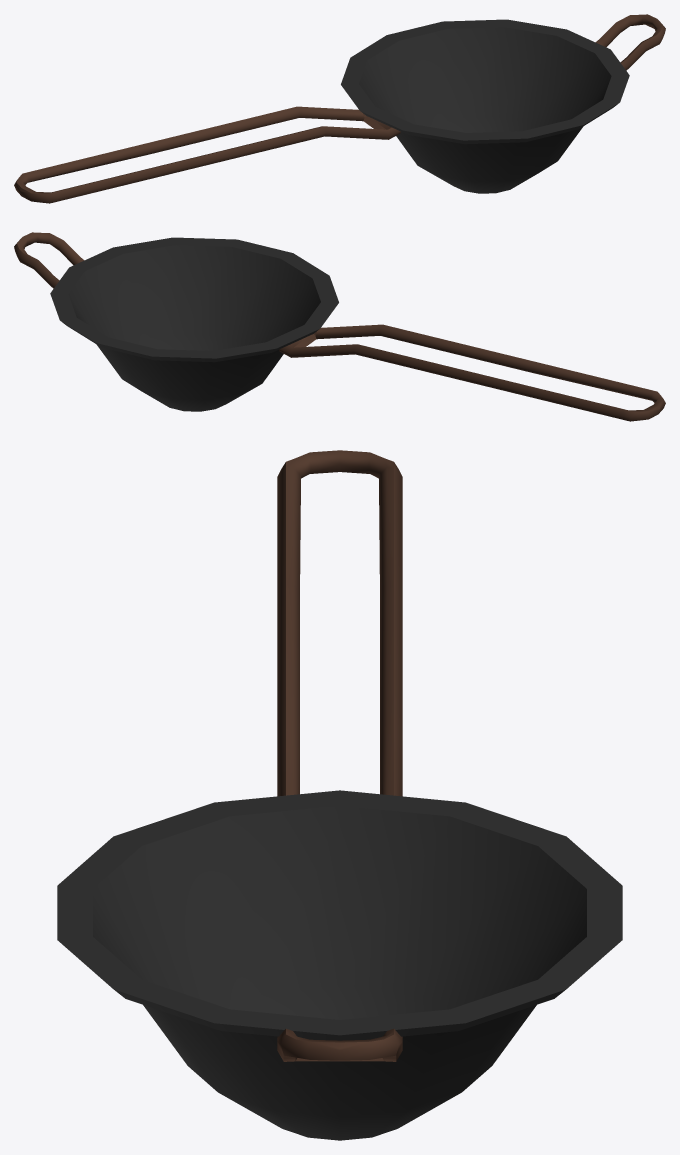
Rendered from Test_Strainer Animation.FBX.
The picture shows the model from 3 angles, top to bottom: view 1: azimuth 30°, elevation 25°; view 2: azimuth 150°, elevation 25°; view 3: azimuth 270°, elevation 25°; orthographic projection. The views are drawn at different scales.
Visible parts, largest first — view 1: Cylinder001, Box004, Box005; view 2: Cylinder001, Box004, Box005; view 3: Cylinder001, Box004, Box005.
Part boxes in pixels (x1=…): Cylinder001: x1=341, y1=19, x2=629, y2=193; Box004: x1=14, y1=106, x2=400, y2=203; Box005: x1=595, y1=14, x2=665, y2=70; Cylinder001: x1=50, y1=237, x2=338, y2=411; Box004: x1=279, y1=324, x2=665, y2=421; Box005: x1=14, y1=232, x2=84, y2=288; Cylinder001: x1=57, y1=790, x2=622, y2=1140; Box004: x1=277, y1=450, x2=402, y2=796; Box005: x1=277, y1=1028, x2=402, y2=1061.
Bounding box in the file's own units: 57.23 × 10.96 × 21.9.
